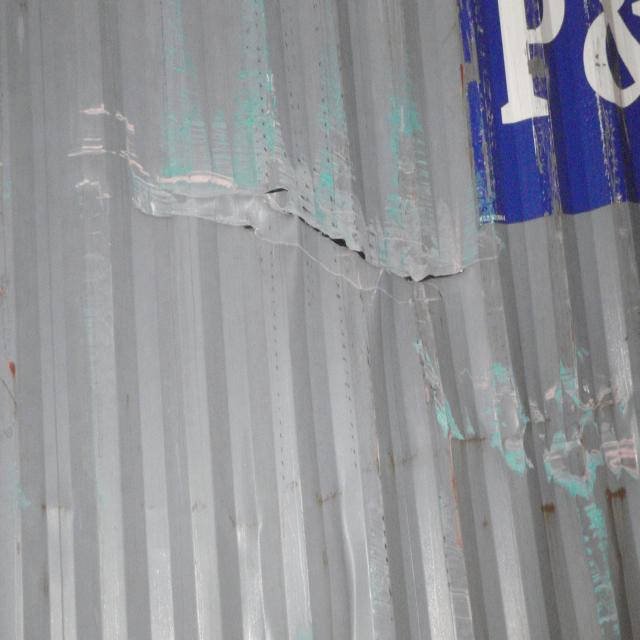dent: (338, 515, 359, 638), (235, 516, 263, 539), (47, 501, 74, 521)
